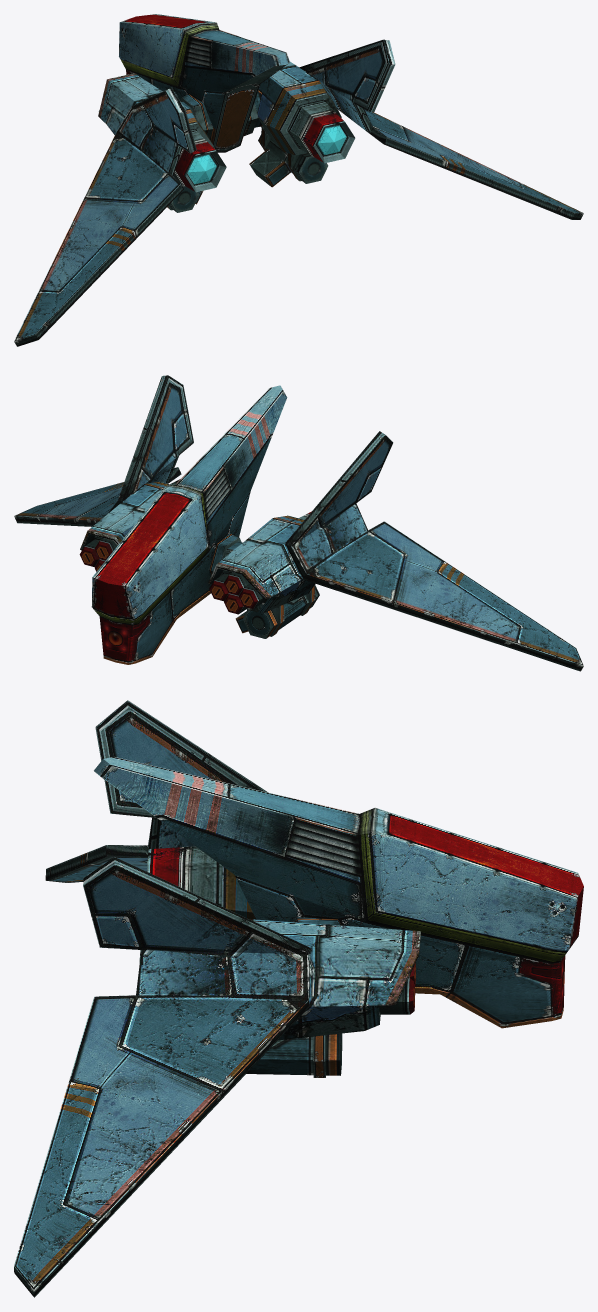
Rendered from droneL.obj.
3 views of the same model, one above another, from view 1: azimuth 30°, elevation 25°; view 2: azimuth 150°, elevation 25°; view 3: azimuth 270°, elevation 25° (orthographic). The views are drawn at different scales.
Visible parts, largest first — view 1: drone_L_Mesh.020; view 2: drone_L_Mesh.020; view 3: drone_L_Mesh.020.
Boxes of the visible parts, x1,y1,x2,y2 form: drone_L_Mesh.020: (14, 14, 583, 346); drone_L_Mesh.020: (14, 375, 583, 671); drone_L_Mesh.020: (14, 700, 583, 1297).
Size of the model in its own units: 3.09 by 1.14 by 1.78.
1 material, 1 textured.
